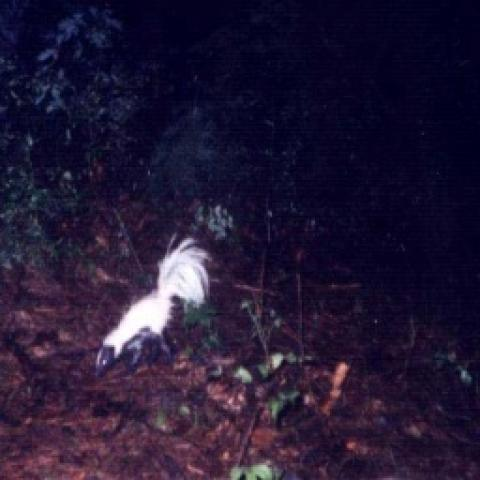small_animal: (90, 231, 214, 377)
